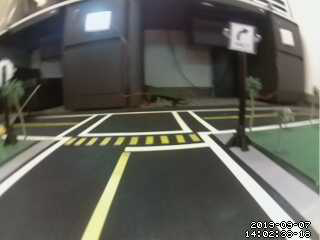Right_only_sign: (231, 20, 256, 55)
